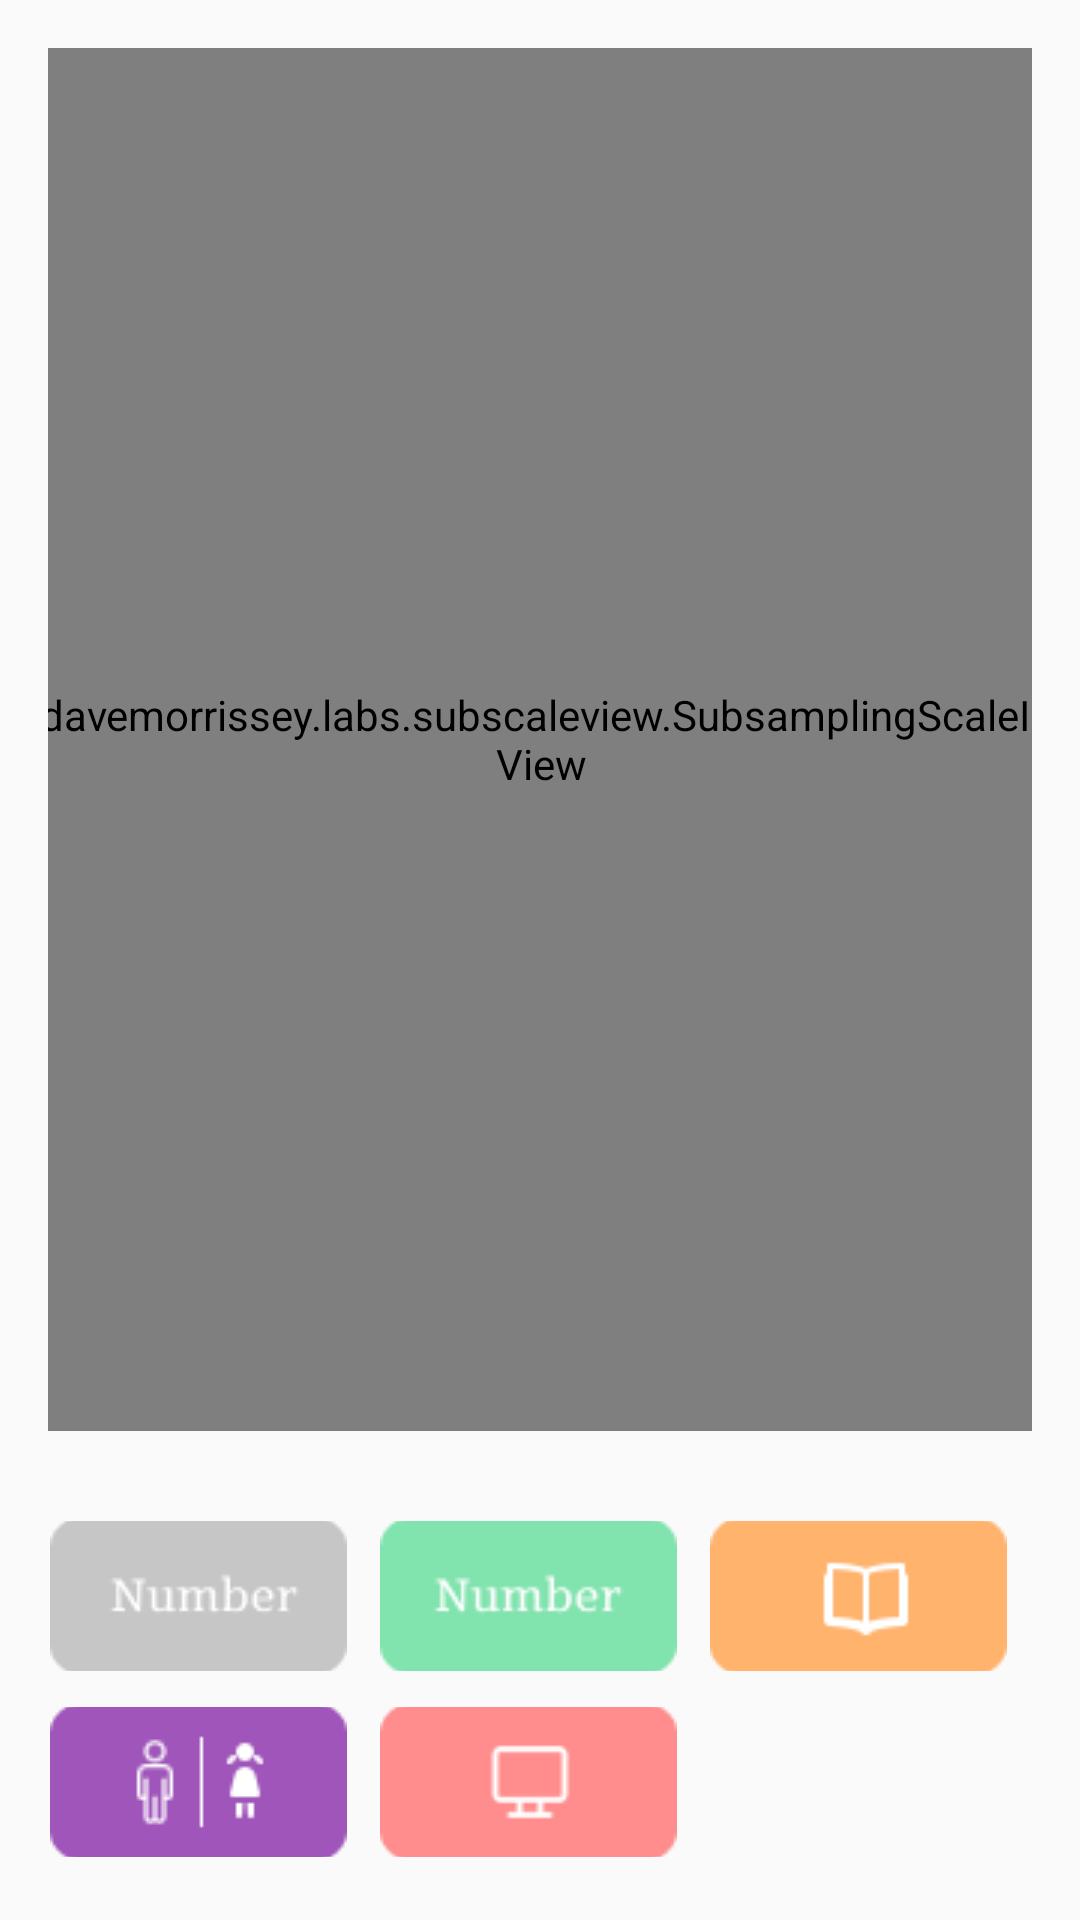

Icons on this 1080x1920 Android screen, each with its box as BBox(x1, y1, x2, y2):
library: BBox(710, 1521, 1007, 1671)
technical: BBox(380, 1707, 677, 1857)
toilet: BBox(50, 1707, 347, 1857)
